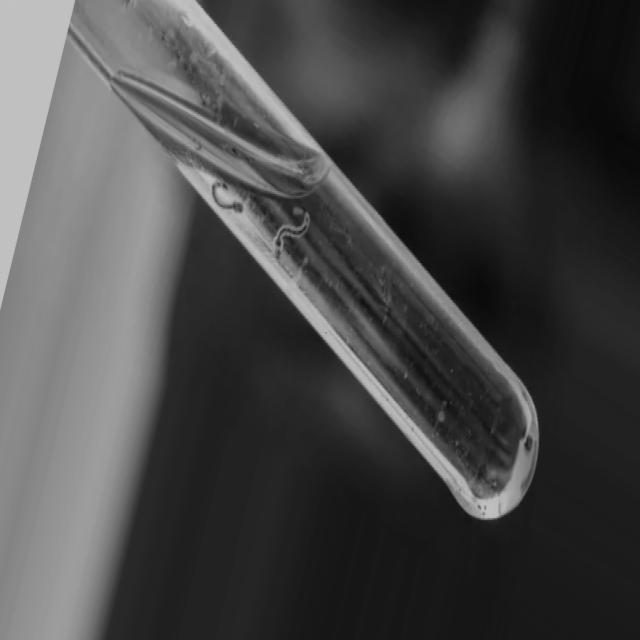larvas: (272, 212, 310, 258), (212, 180, 244, 212)
